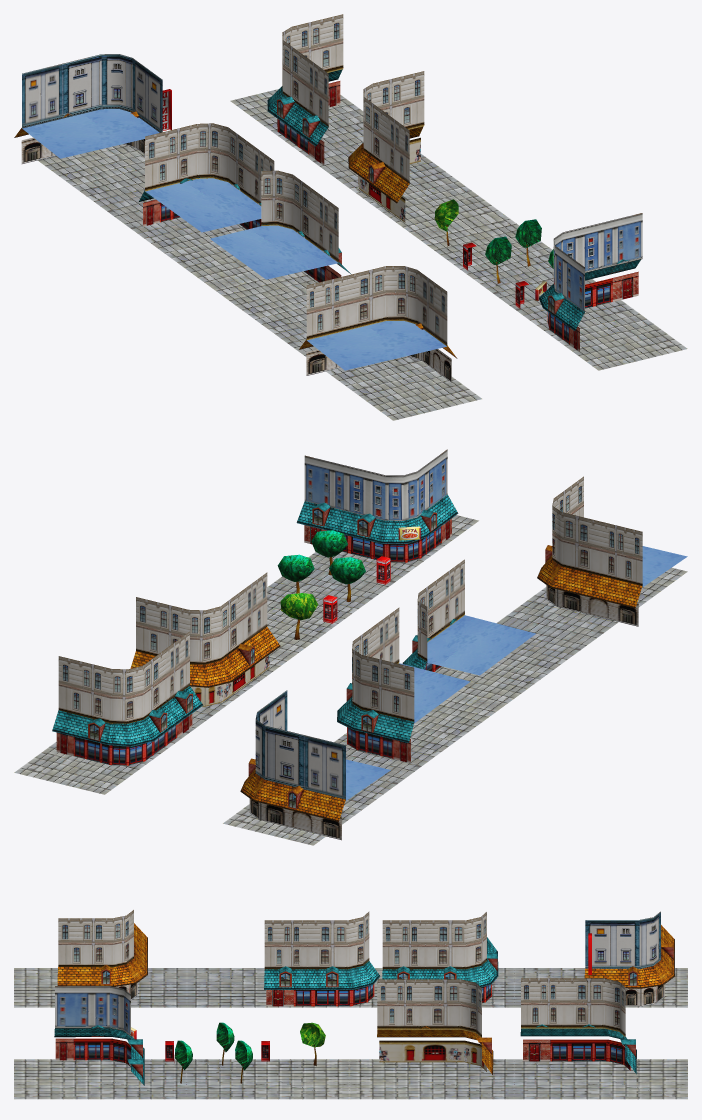
Rendered from eu_city_mid2.fbx.
3 views of the same model, one above another, from view 1: azimuth 30°, elevation 25°; view 2: azimuth 150°, elevation 25°; view 3: azimuth 270°, elevation 25° (orthographic). The views are drawn at different scales.
Parts seen in each view (by area): view 1: eu_city_mid2; view 2: eu_city_mid2; view 3: eu_city_mid2.
Part boxes in pixels (x1,y1,x2,y2): eu_city_mid2: [14, 14, 687, 420]; eu_city_mid2: [14, 449, 687, 845]; eu_city_mid2: [14, 910, 687, 1099].
Bounding box in the file's own units: 5291 × 1448 × 10000.
